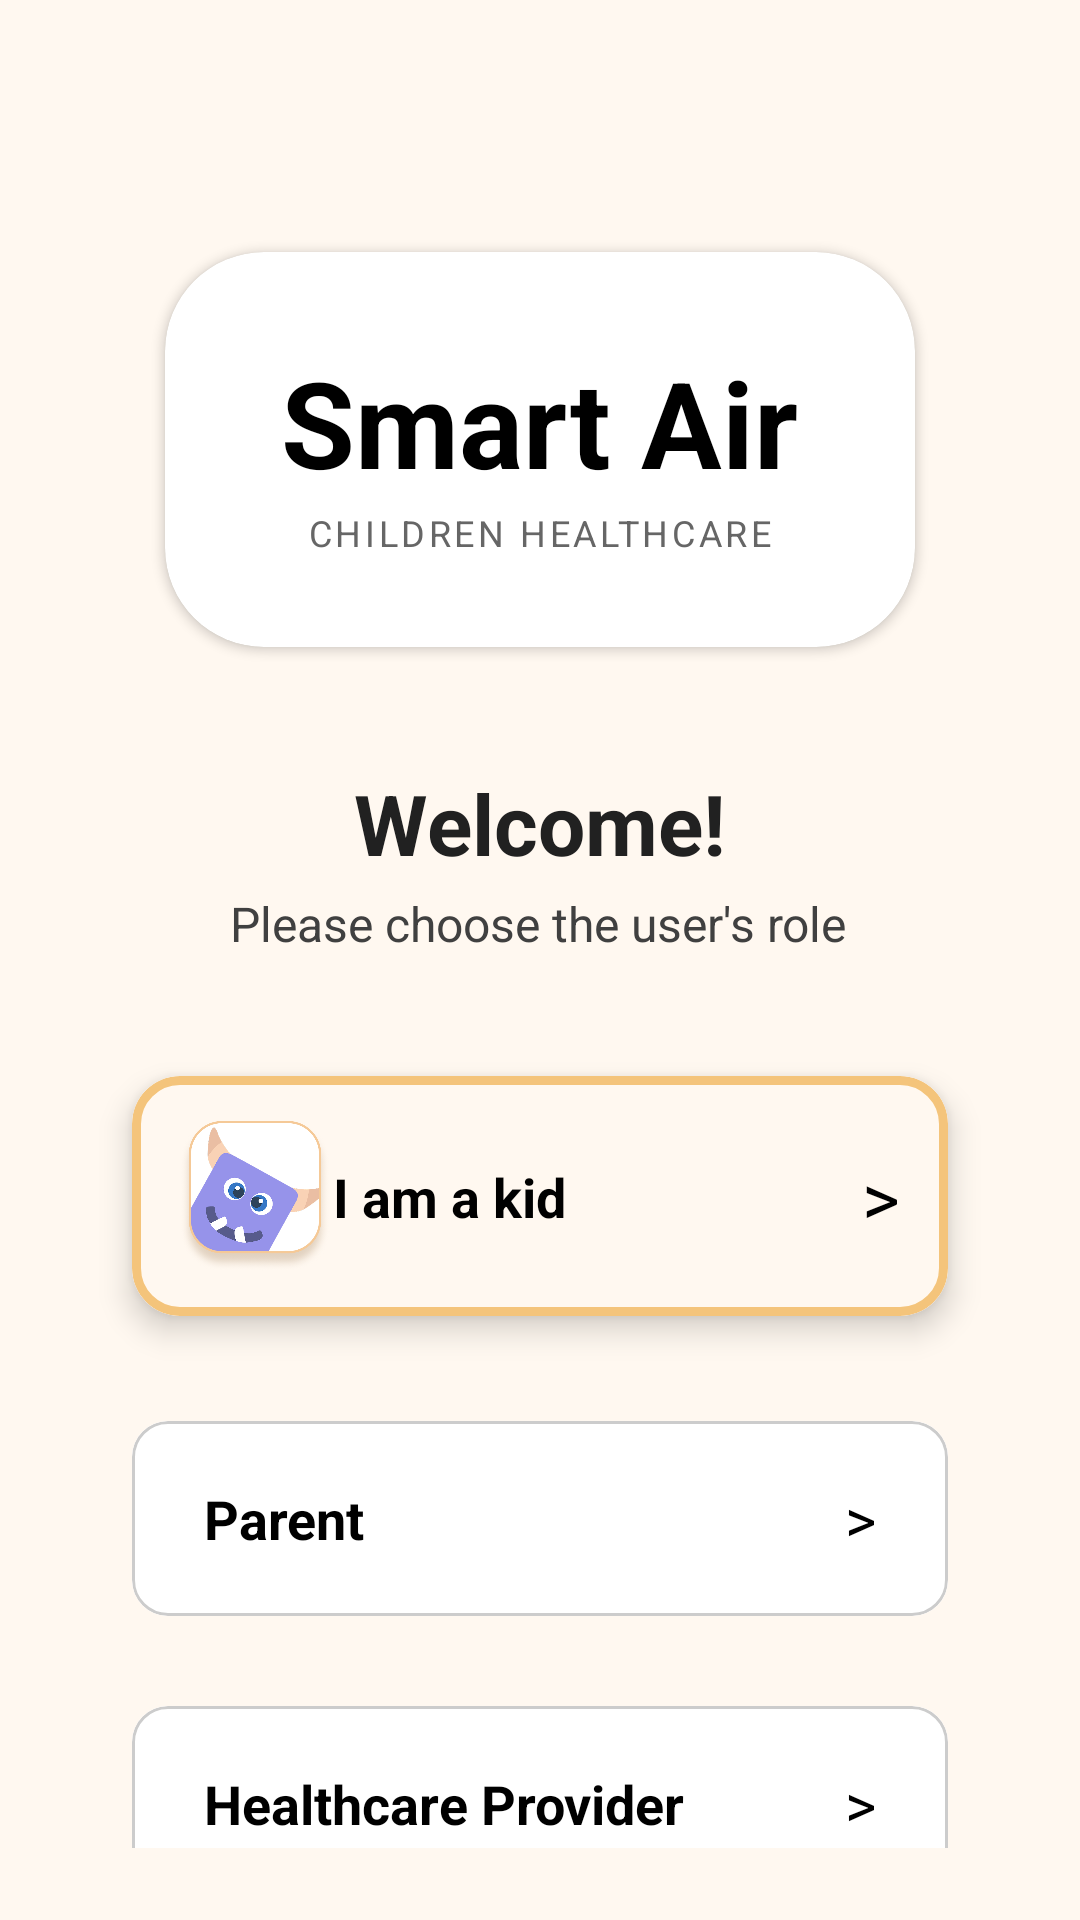

Where icons sit on this 1080 × 1920 app screen, as bbox(x1, y1, x2, y2):
kidicon: bbox(189, 1121, 321, 1262)
